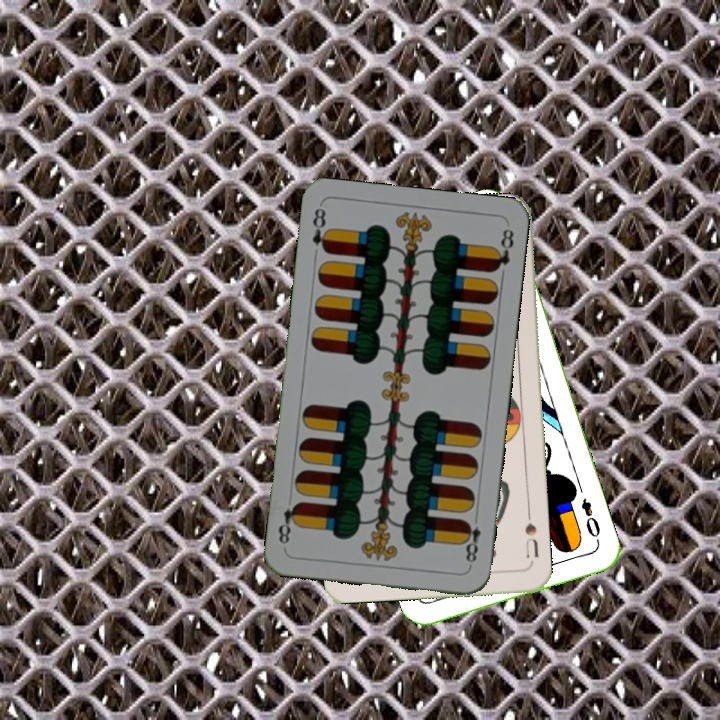E8: (459, 511, 483, 570), (308, 203, 333, 256)
EO: (577, 494, 603, 540)
SU: (521, 508, 542, 561)
